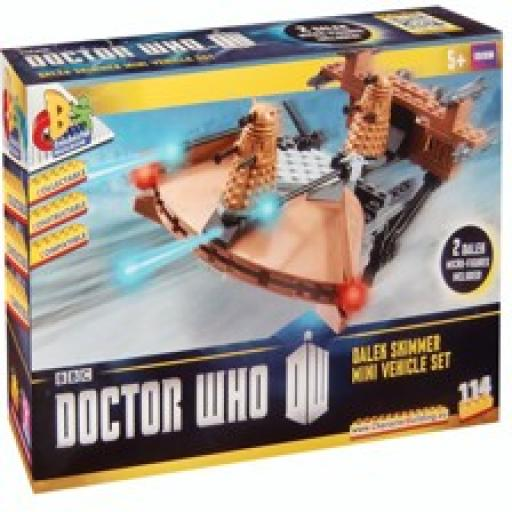dalek: (224, 98, 282, 219), (340, 70, 395, 166)
